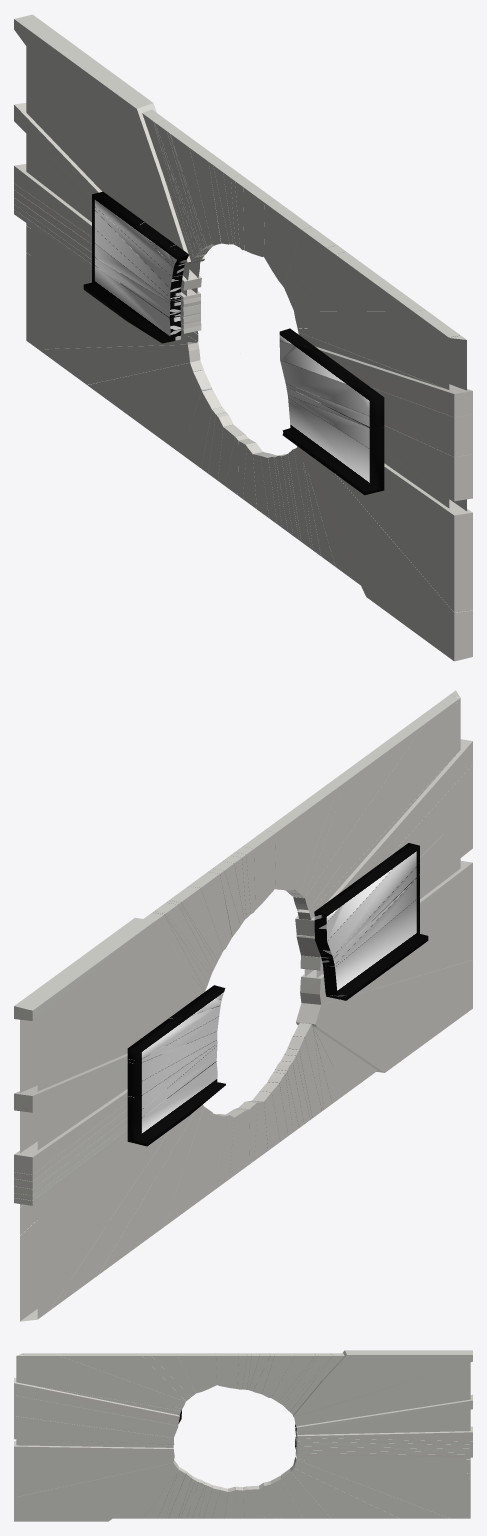
File: brokenwall2.fbx
The picture shows the model from 3 angles, top to bottom: view 1: azimuth 30°, elevation 25°; view 2: azimuth 150°, elevation 25°; view 3: azimuth 270°, elevation 25°; orthographic projection. The views are drawn at different scales.
Parts seen in each view (by area): view 1: whiteboad.L_cell.034; view 2: whiteboad.L_cell.034; view 3: whiteboad.L_cell.034.
Boxes of the visible parts, box(x1,y1,x2,y2) form: whiteboad.L_cell.034: box(14, 14, 472, 661); whiteboad.L_cell.034: box(14, 690, 472, 1321); whiteboad.L_cell.034: box(14, 1350, 472, 1521).
Bounding box in the file's own units: 55.24 × 410 × 1022.
2 materials, 1 textured.
